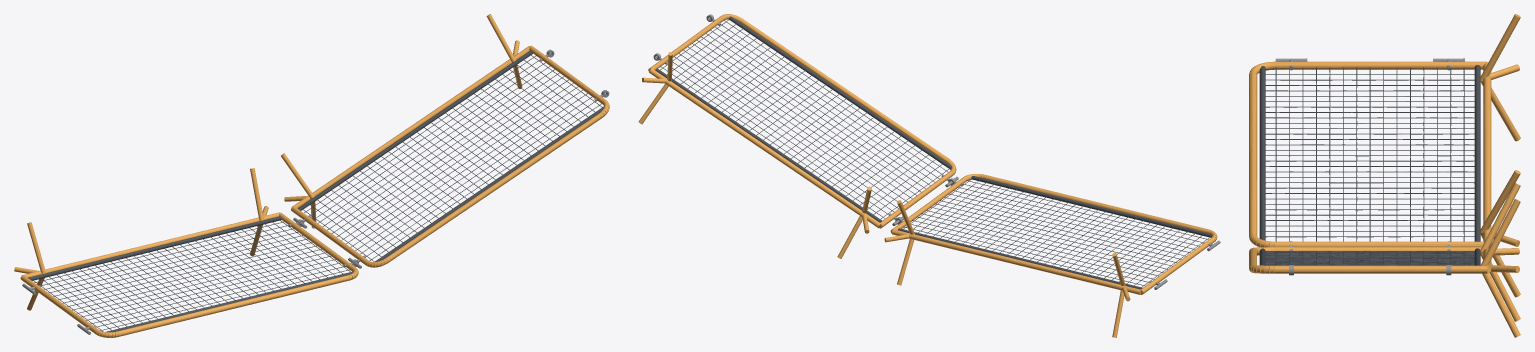
File: material-panel_infill-black-anodized-infill.glb
3 renders of one model, left to right at view 1: azimuth 30°, elevation 25°; view 2: azimuth 150°, elevation 25°; view 3: azimuth 270°, elevation 25°, orthographic. The views are drawn at different scales.
Visible parts, largest first — view 1: panel_0__infill, panel_0__frame, panel_0__eye_top; view 2: panel_0__infill, panel_0__frame, panel_0__eye_top; view 3: panel_0__infill, panel_0__frame, panel_0__eye_top.
Boxes of the visible parts, <box> form: panel_0__infill: <box>28,50,604,332</box>; panel_0__frame: <box>14,14,609,337</box>; panel_0__eye_top: <box>22,49,609,334</box>; panel_0__infill: <box>655,16,1212,289</box>; panel_0__frame: <box>638,14,1217,337</box>; panel_0__eye_top: <box>653,14,1220,289</box>; panel_0__infill: <box>1259,65,1480,265</box>; panel_0__frame: <box>1249,14,1520,337</box>; panel_0__eye_top: <box>1275,58,1464,275</box>.
Size of the model in its own units: 4.09 by 1.37 by 1.28.
